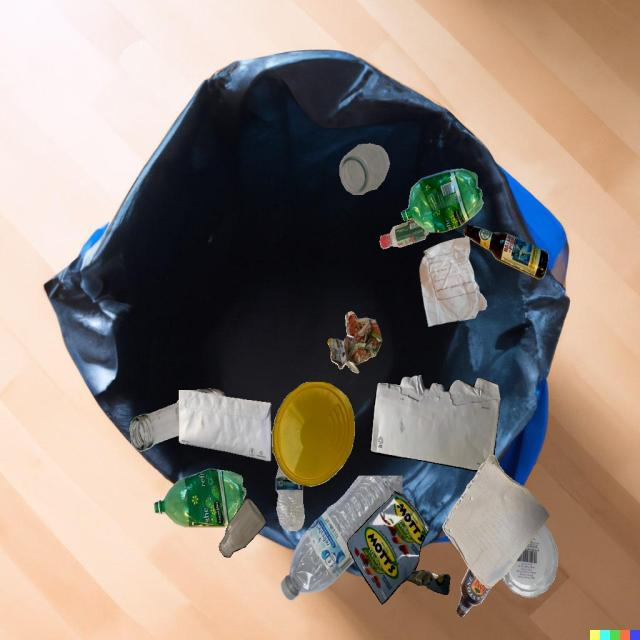glass: (464, 224, 549, 279), (219, 499, 266, 558), (129, 399, 179, 452), (339, 143, 389, 195), (456, 567, 492, 617)
paper: (442, 454, 549, 588), (370, 375, 501, 472), (179, 390, 271, 461), (419, 237, 487, 327), (327, 311, 382, 373)
plastic: (281, 476, 403, 601), (272, 382, 355, 487), (154, 468, 246, 527), (401, 168, 483, 232), (502, 523, 558, 598), (276, 467, 305, 531), (380, 220, 429, 249)
trash: (347, 490, 450, 604)
